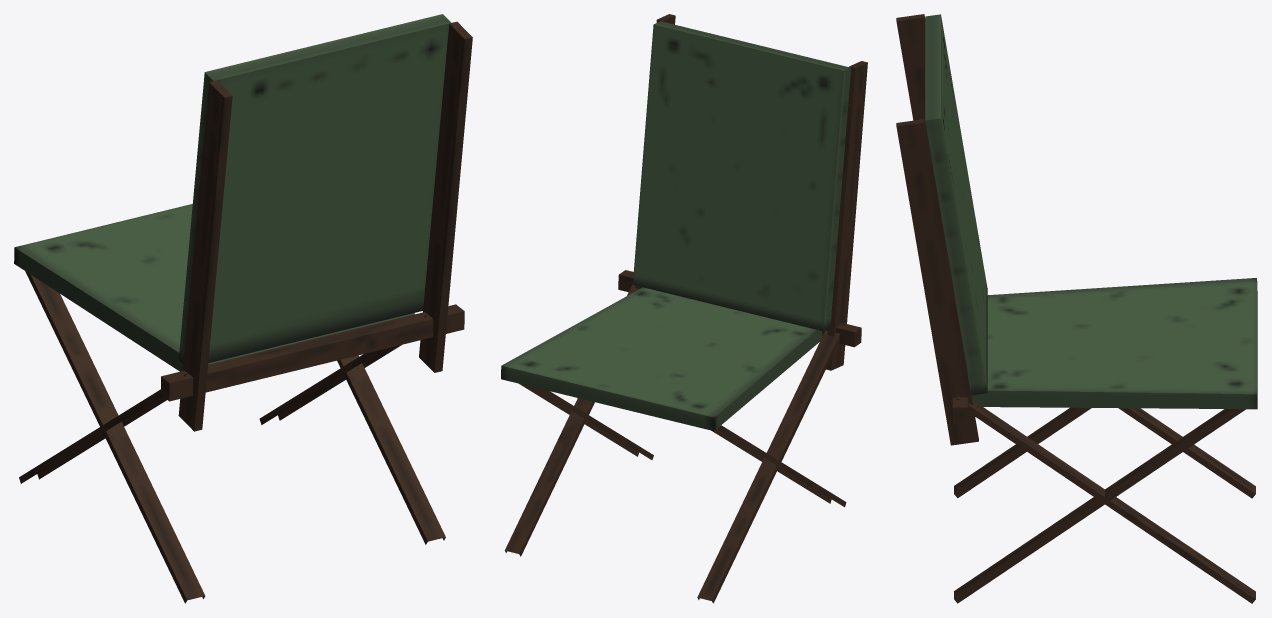
File: Chair.fbx
The picture shows the model from 3 angles, left to right: view 1: azimuth 30°, elevation 25°; view 2: azimuth 150°, elevation 25°; view 3: azimuth 270°, elevation 25°; orthographic projection. The views are drawn at different scales.
Visible parts, largest first — view 1: Chair (Mesh); view 2: Chair (Mesh); view 3: Chair (Mesh).
Part boxes in pixels (x1,y1,x2,y2): Chair (Mesh): (14,14,472,603); Chair (Mesh): (501,14,867,603); Chair (Mesh): (896,14,1257,603).
Size of the model in its own units: 0.7017 by 1.22 by 0.8299.
Materials: 1 (1 with a texture image).
